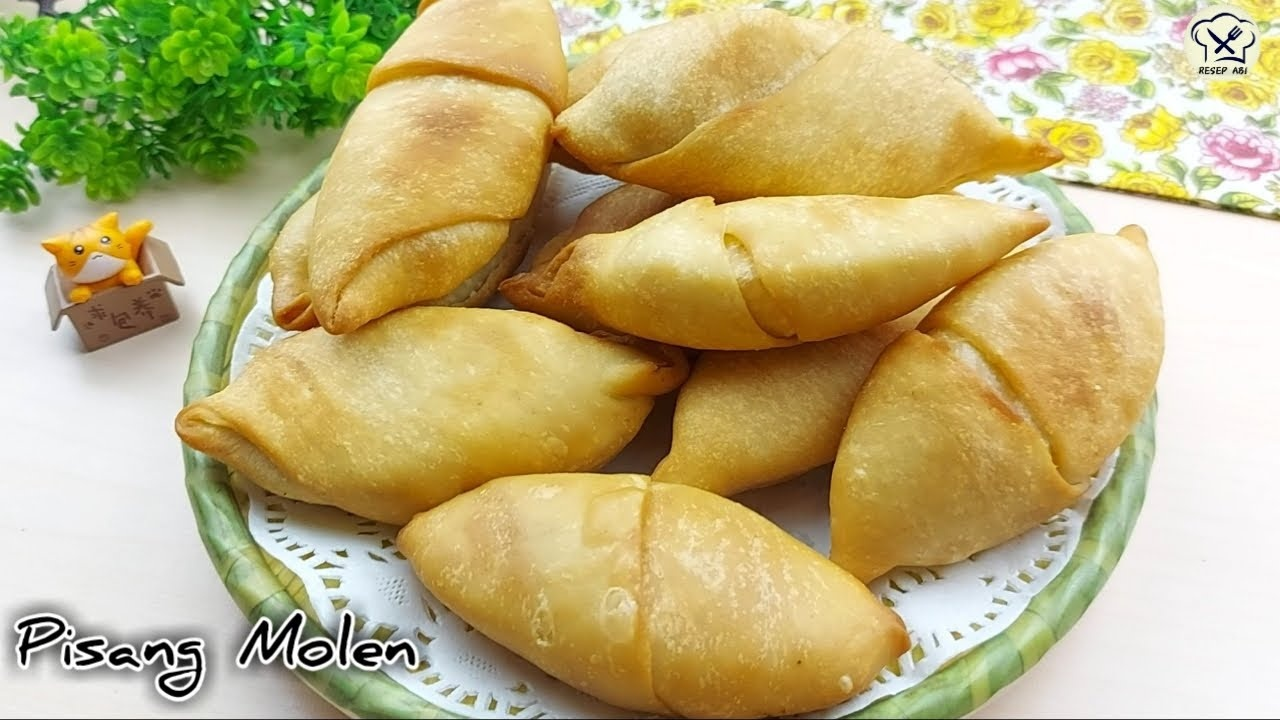pisang_molen: (394, 469, 911, 720), (824, 216, 1164, 584), (175, 299, 691, 529), (556, 9, 1065, 192), (492, 191, 1051, 351), (312, 3, 569, 338)
